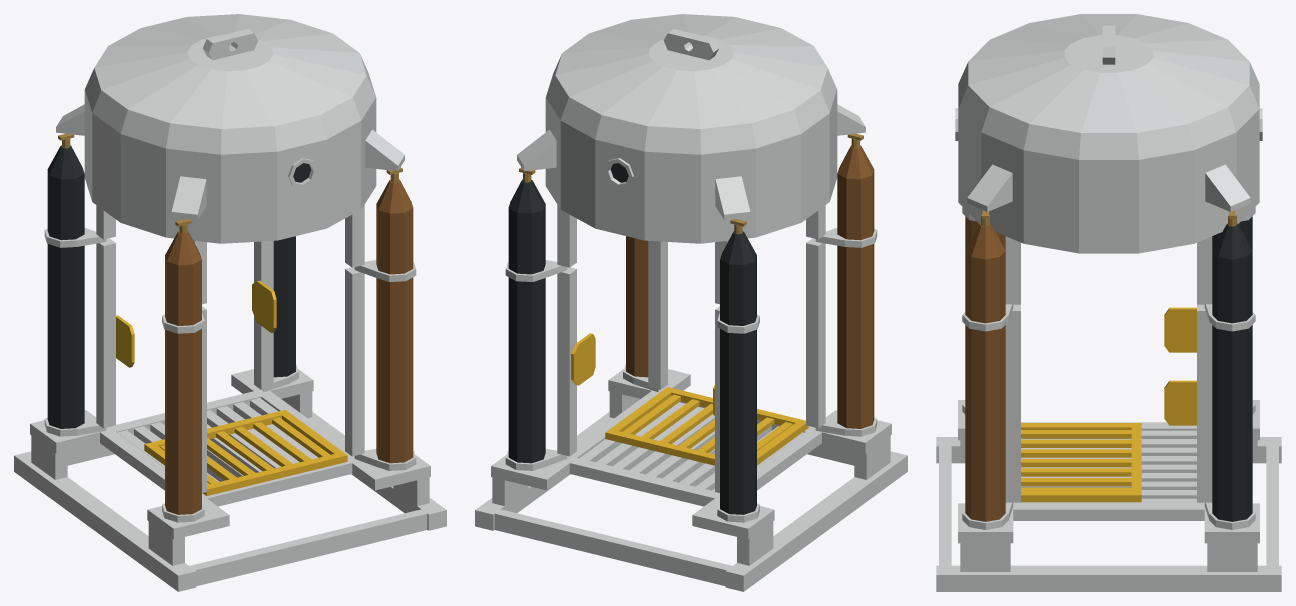
The picture shows the model from 3 angles, left to right: view 1: azimuth 30°, elevation 25°; view 2: azimuth 150°, elevation 25°; view 3: azimuth 270°, elevation 25°; orthographic projection. The views are drawn at different scales.
Parts seen in each view (by area): view 1: Open_bottom_dome_with_two_apertures, RF_gas_cylinder, LB_gas_cylinder, LF_gas_cylinder, L_ground_skid, Front_lower_crossbar, LB_lower_upright, RF_lower_upright, RB_gas_cylinder, RB_lower_upright, R_deck_side, Front_deck_cross (+33 smaller); view 2: Open_bottom_dome_with_two_apertures, RB_gas_cylinder, LF_gas_cylinder, LB_gas_cylinder, L_ground_skid, Rear_lower_crossbar, LF_lower_upright, RB_lower_upright, RF_gas_cylinder, RF_lower_upright, Rear_deck_cross, R_deck_side (+32 smaller); view 3: Open_bottom_dome_with_two_apertures, RF_gas_cylinder, RB_gas_cylinder, R_ground_skid, R_deck_side, RF_lower_upright, RB_lower_upright, Front_lower_crossbar, Rear_lower_crossbar, RF_skid_riser, RB_skid_riser, RF_dome_mounted_overhead_guard (+32 smaller).
Boxes of the visible parts, x1,y1,x2,y2 form: Open_bottom_dome_with_two_apertures: (84,14,376,243); RF_gas_cylinder: (376,179,413,463); LB_gas_cylinder: (47,145,84,428); LF_gas_cylinder: (165,231,201,514); L_ground_skid: (14,451,196,591); Front_lower_crossbar: (189,509,427,586); LB_lower_upright: (96,238,115,428); RF_lower_upright: (345,267,364,456); RB_gas_cylinder: (273,236,295,377); RB_lower_upright: (254,241,273,389); R_deck_side: (231,371,387,490); Front_deck_cross: (202,460,352,506); Open_bottom_dome_with_two_apertures: (545,14,837,243); RB_gas_cylinder: (508,179,545,463); LF_gas_cylinder: (837,145,874,428); LB_gas_cylinder: (720,231,756,514); L_ground_skid: (725,451,907,591); Rear_lower_crossbar: (494,509,732,586); LF_lower_upright: (806,238,825,428); RB_lower_upright: (557,267,576,456); RF_gas_cylinder: (626,236,648,377); RF_lower_upright: (648,241,667,389); Rear_deck_cross: (569,458,719,506); R_deck_side: (534,371,690,490); Open_bottom_dome_with_two_apertures: (958,14,1259,253); RF_gas_cylinder: (965,223,1005,521); RB_gas_cylinder: (1212,223,1252,521); R_ground_skid: (936,565,1281,591); R_deck_side: (958,503,1259,520); RF_lower_upright: (1005,304,1020,502); RB_lower_upright: (1197,304,1212,502); Front_lower_crossbar: (939,446,951,565); Rear_lower_crossbar: (1266,446,1278,565); RF_skid_riser: (960,543,1010,571); RB_skid_riser: (1207,543,1257,571); RF_dome_mounted_overhead_guard: (967,164,1012,211).
Bounding box in the file's own units: 1.3 × 2.13 × 1.37.
